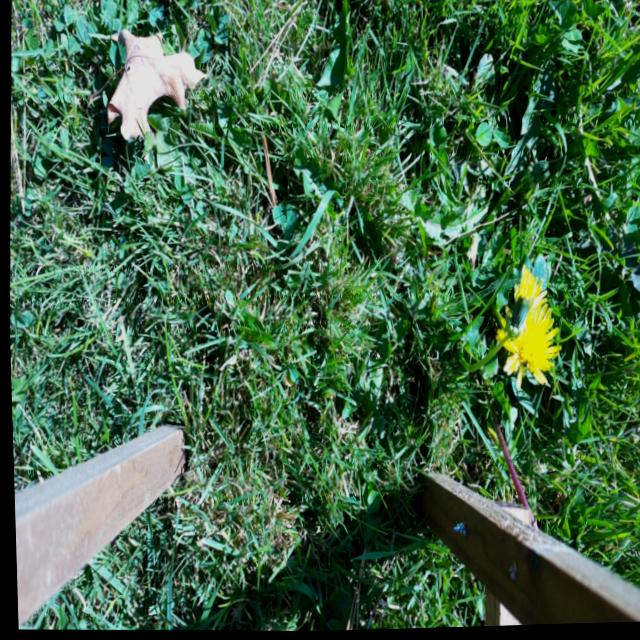base: (476, 372, 497, 407), (452, 333, 473, 363)
